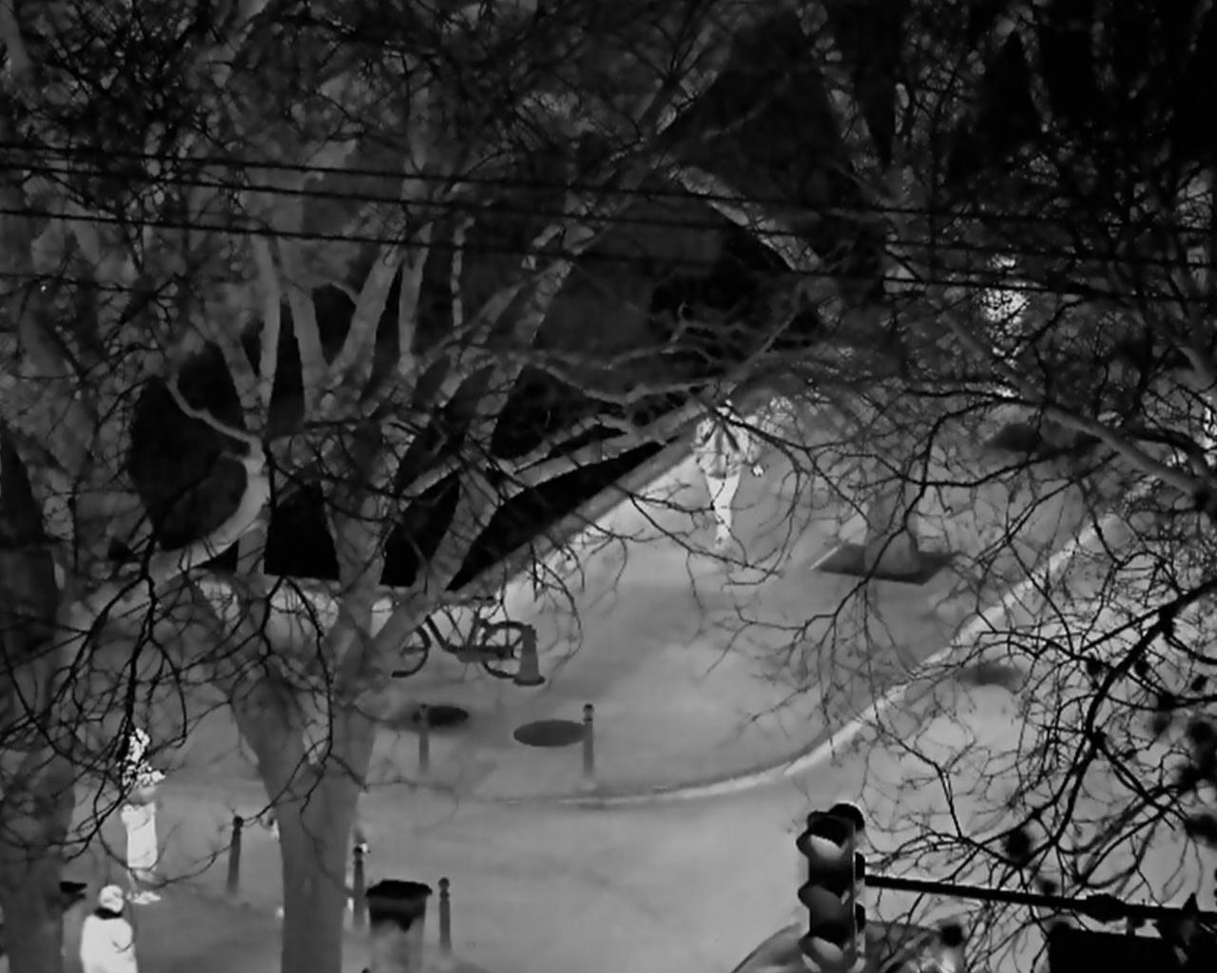person: (695, 397, 763, 544), (119, 727, 169, 906), (986, 249, 1031, 390), (77, 884, 137, 973)
